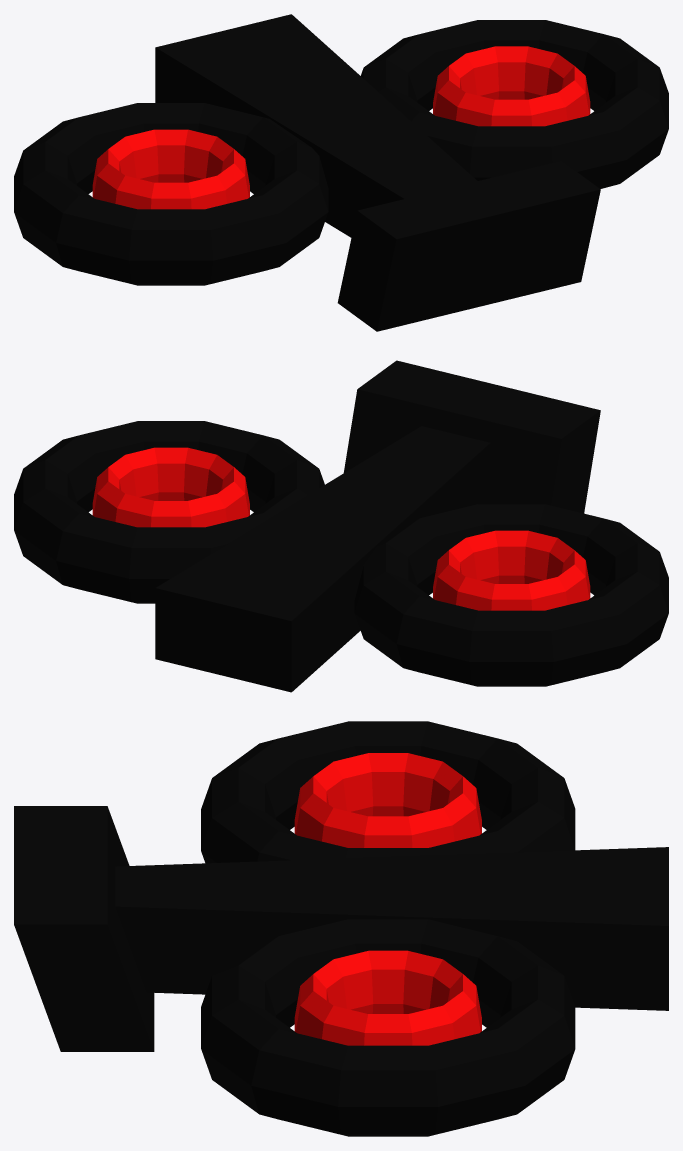
File: Drone.gltf
3 views of the same model, one above another, from view 1: azimuth 30°, elevation 25°; view 2: azimuth 150°, elevation 25°; view 3: azimuth 270°, elevation 25° (orthographic). The views are drawn at different scales.
Parts seen in each view (by area): view 1: torus (×4), BaseDrone; view 2: torus (×4), BaseDrone; view 3: torus (×4), BaseDrone.
Boxes of the visible parts, x1,y1,x2,y2 form: torus (×4): (14,20,668,285); BaseDrone: (155,14,600,331); torus (×4): (14,421,668,686); BaseDrone: (155,360,600,692); torus (×4): (201,721,575,1136); BaseDrone: (14,806,668,1051).
Bounding box in the file's own units: 1.12 × 0.1875 × 0.875.
Materials: 2 (2 with a texture image).
